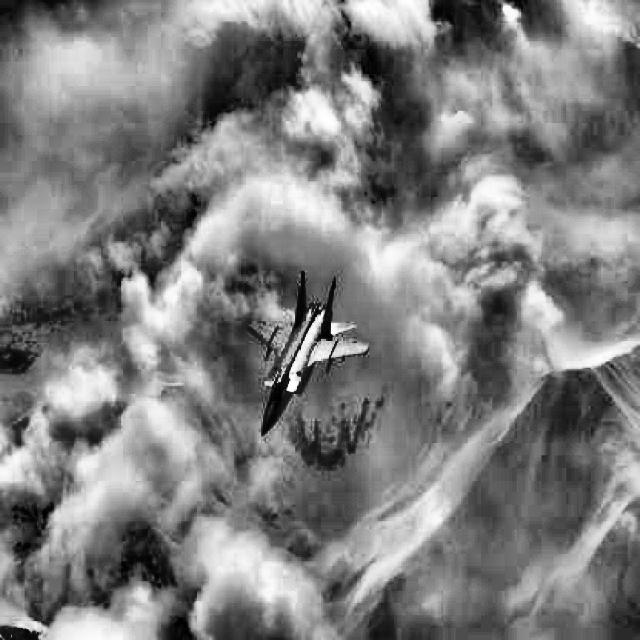Mig31: (246, 270, 371, 444)
